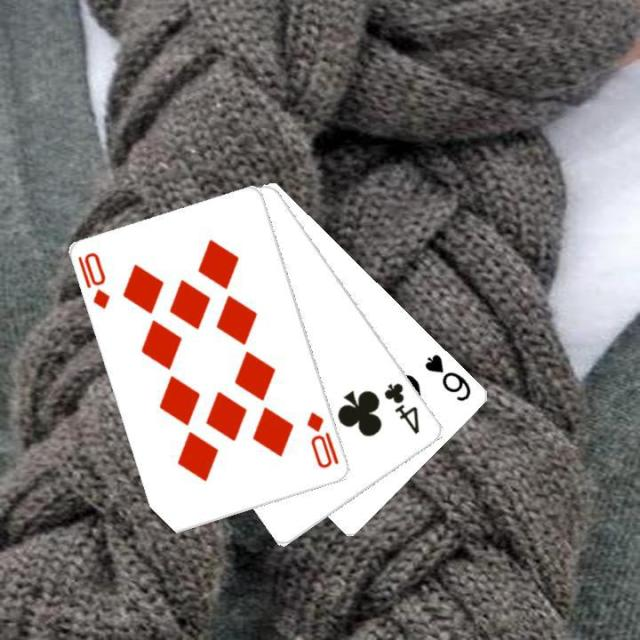10D: (303, 408, 341, 471), (74, 248, 112, 311)
4C: (380, 378, 422, 436)
6S: (421, 350, 474, 404)
